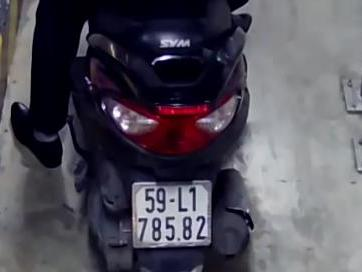num_plate: (129, 179, 214, 248)
